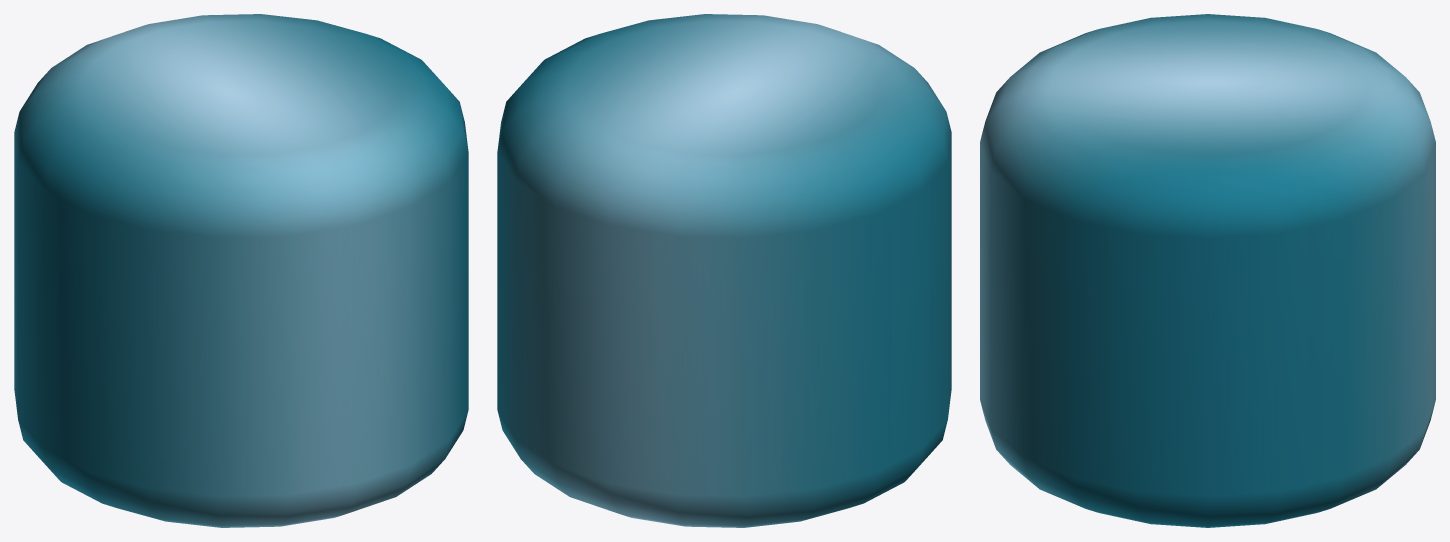
The model's file is gradient_cylender.fbx.
3 renders of one model, left to right at view 1: azimuth 30°, elevation 25°; view 2: azimuth 150°, elevation 25°; view 3: azimuth 270°, elevation 25°, orthographic.
Visible parts, largest first — view 1: gradient_cylender; view 2: gradient_cylender; view 3: gradient_cylender.
Part boxes in pixels (<box>): gradient_cylender: <box>14,14,468,527</box>; gradient_cylender: <box>497,14,951,527</box>; gradient_cylender: <box>980,14,1435,527</box>.
Size of the model in its own units: 54.29 by 47.98 by 54.29.
1 material, 1 textured.
